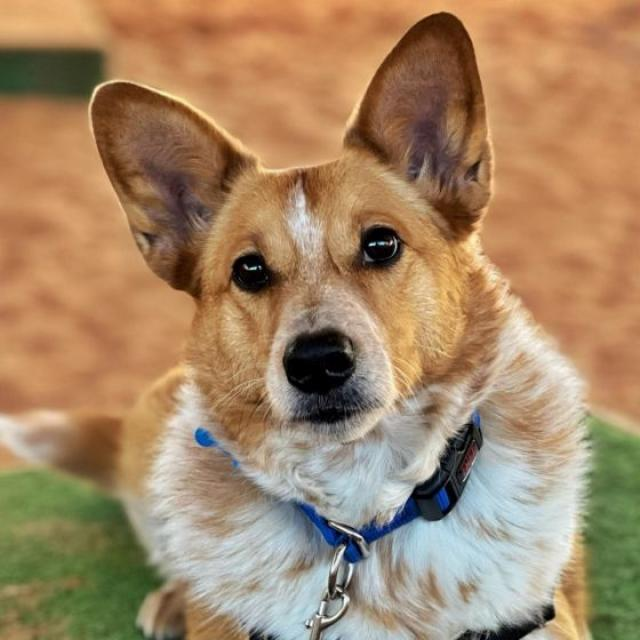corgi_dog: (71, 3, 529, 476)
